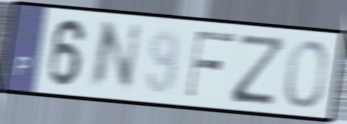6: (46, 17, 89, 89)
9: (144, 26, 184, 96)
F: (184, 29, 238, 101)
N: (85, 19, 145, 93)
O: (283, 38, 330, 111)
Z: (229, 31, 289, 108)
